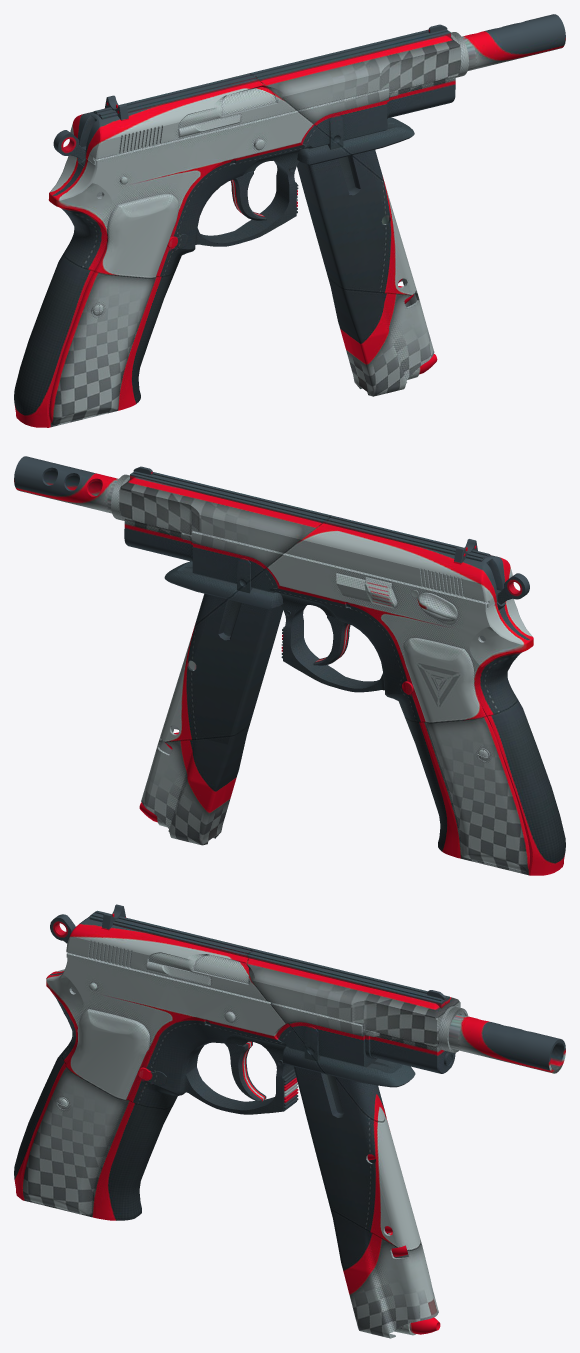
File: w_machinepistol_precision.glb
3 views of the same model, one above another, from view 1: azimuth 30°, elevation 25°; view 2: azimuth 150°, elevation 25°; view 3: azimuth 330°, elevation 25° (orthographic).
Parts seen in each view (by area): view 1: Gun_Root; view 2: Gun_Root; view 3: Gun_Root.
Boxes of the visible parts, bbox=[...] form: Gun_Root: bbox=[14, 14, 565, 427]; Gun_Root: bbox=[14, 456, 565, 875]; Gun_Root: bbox=[14, 904, 565, 1338].
Bounding box in the file's own units: 0.2804 × 0.1769 × 0.0328.
Materials: 1 (1 with a texture image).
